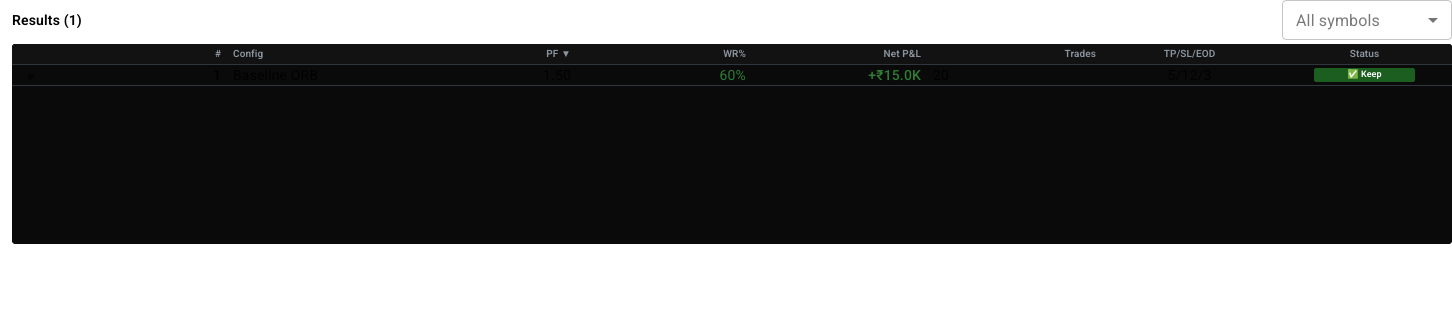
Test: ExperimentsResultsTable › filters per-symbol rows by the selected symbol
Click the button with test id "experiments-expand-1".
click(32, 75)  # box 28,66 -> 36,83
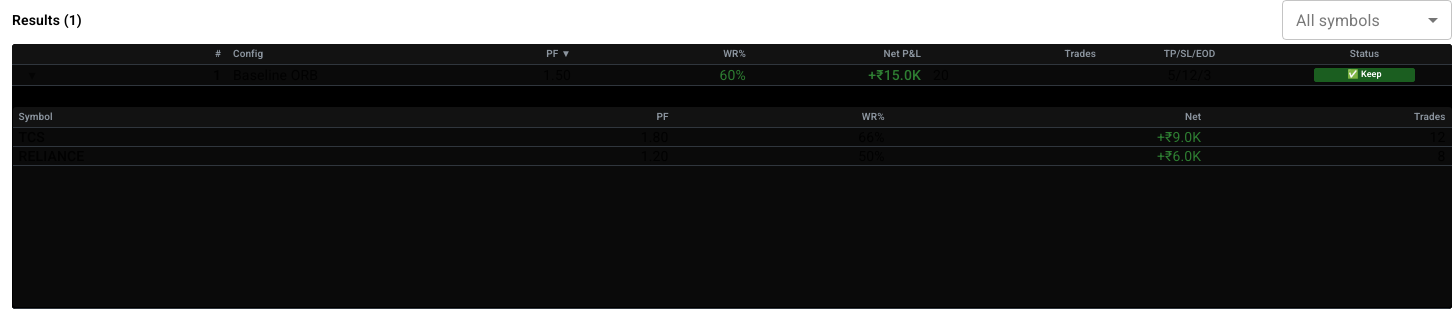
expect the row with test id "experiments-symbol-row-1-RELIANCE" is shown: met, box 12,146 -> 1451,165
Click the dropdown.
click(1338, 20)  # box 1296,10 -> 1380,30
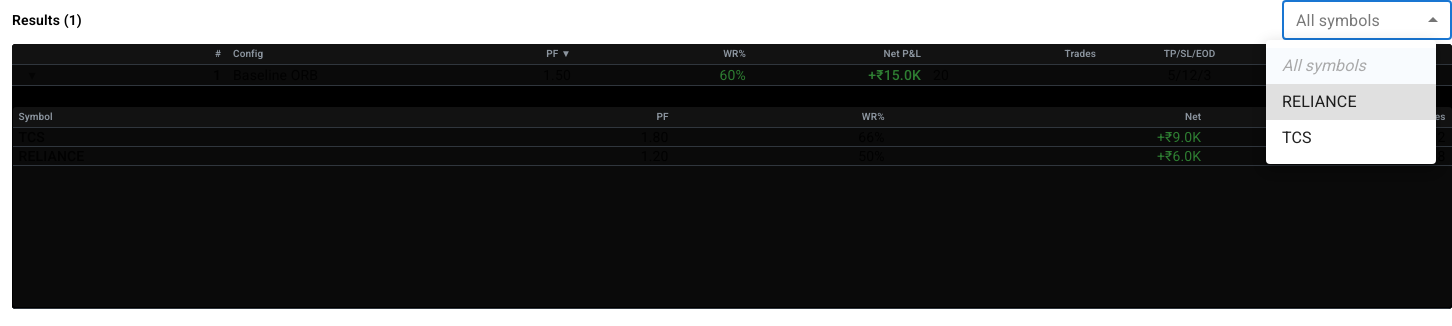
Click the option "TCS".
click(1297, 138)  # box 1282,128 -> 1312,147
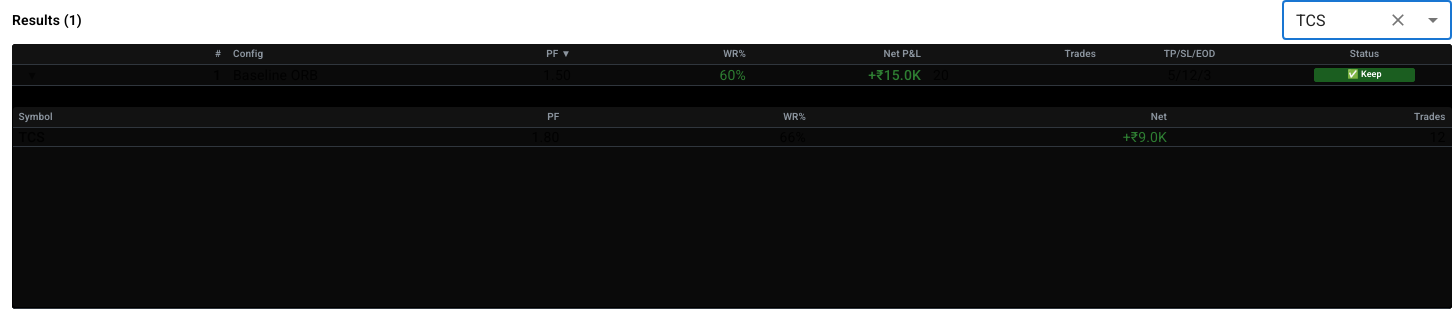
expect the row with test id "experiments-symbol-row-1-TCS" is shown: met, box 12,127 -> 1451,146
expect the row with test id "experiments-symbol-row-1-RELIANCE" is gone: met
